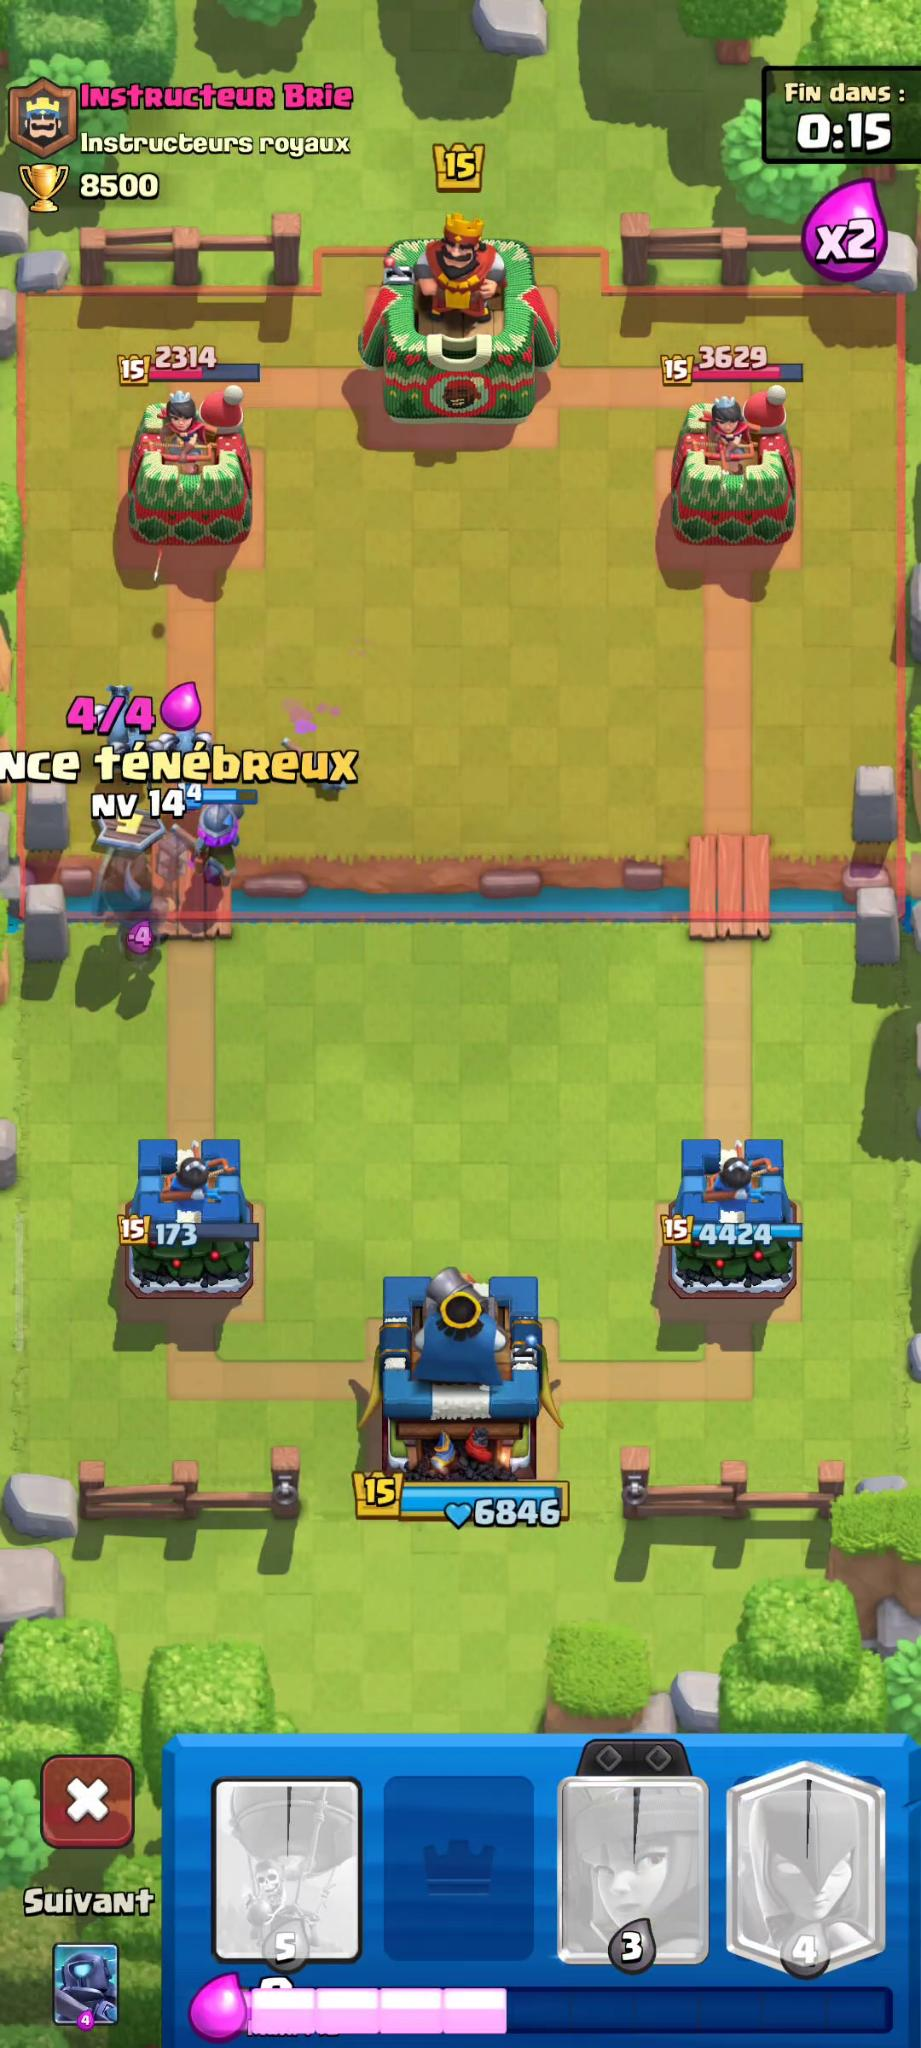gargouille: (157, 718, 223, 780), (94, 688, 148, 746)
mousquetaire: (187, 780, 251, 895)
